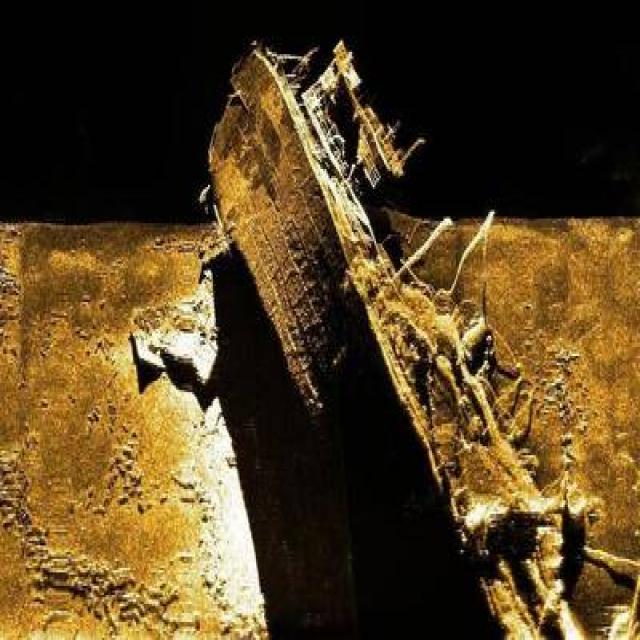ship: (205, 27, 619, 636)
